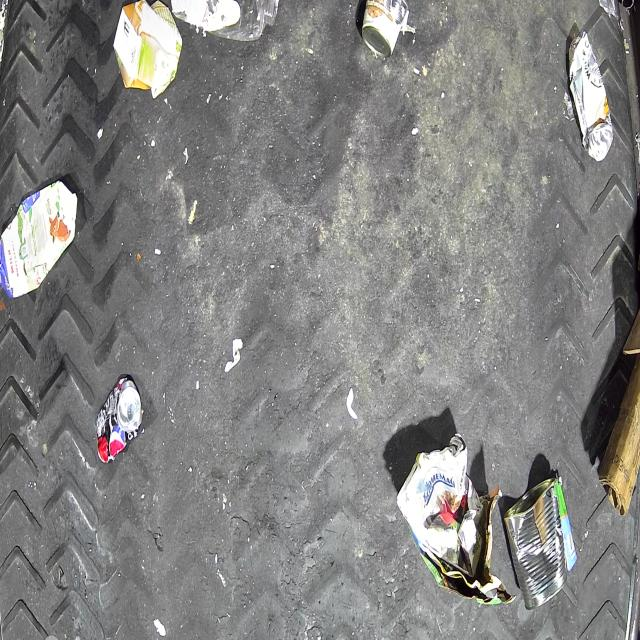can: (503, 474, 566, 612), (568, 31, 614, 162), (96, 376, 142, 463), (361, 0, 409, 57)
non_white_jug: (0, 181, 77, 299), (114, 0, 184, 100)
plastic_bottle: (171, 0, 279, 42)
